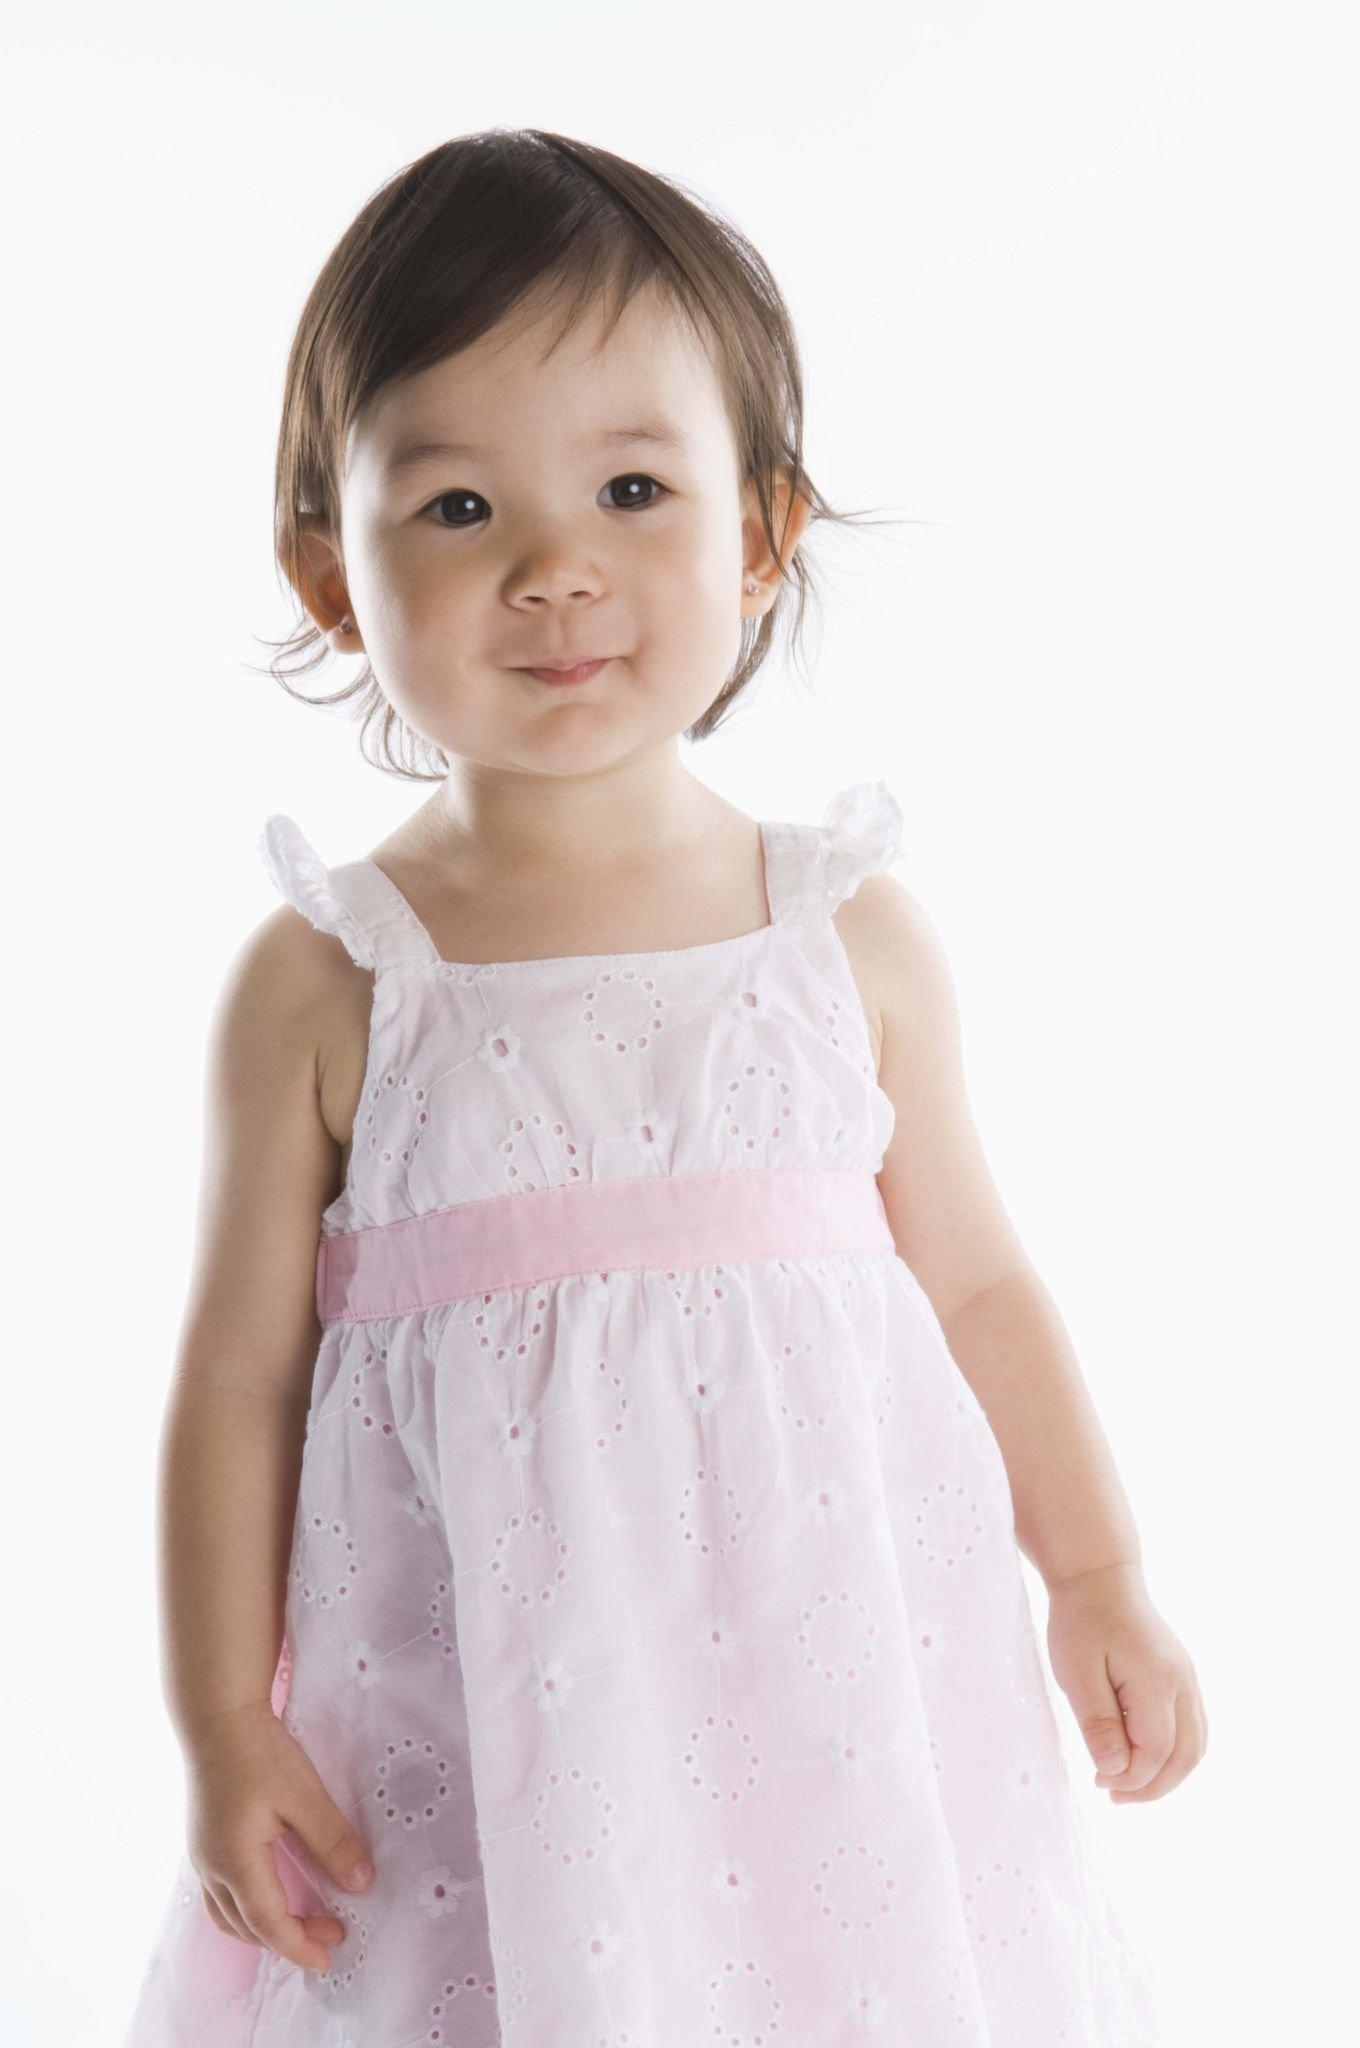Healthy: (187, 137, 891, 862)
